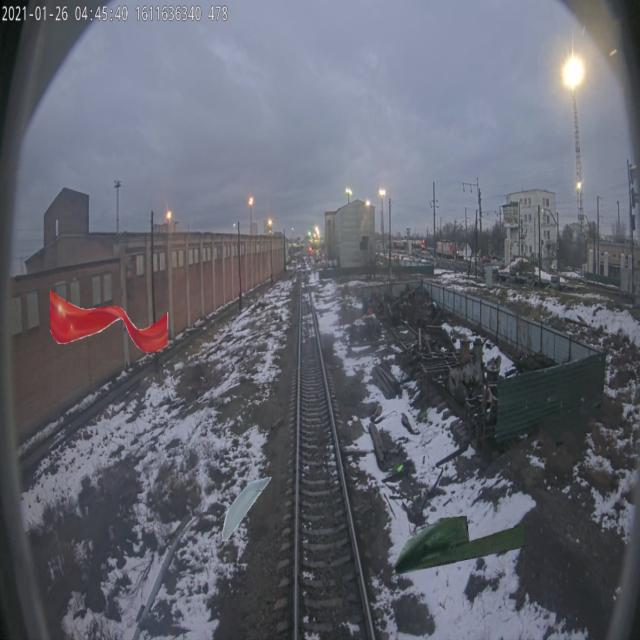floating object: (395, 512, 525, 576), (47, 290, 170, 354), (220, 477, 272, 541)
